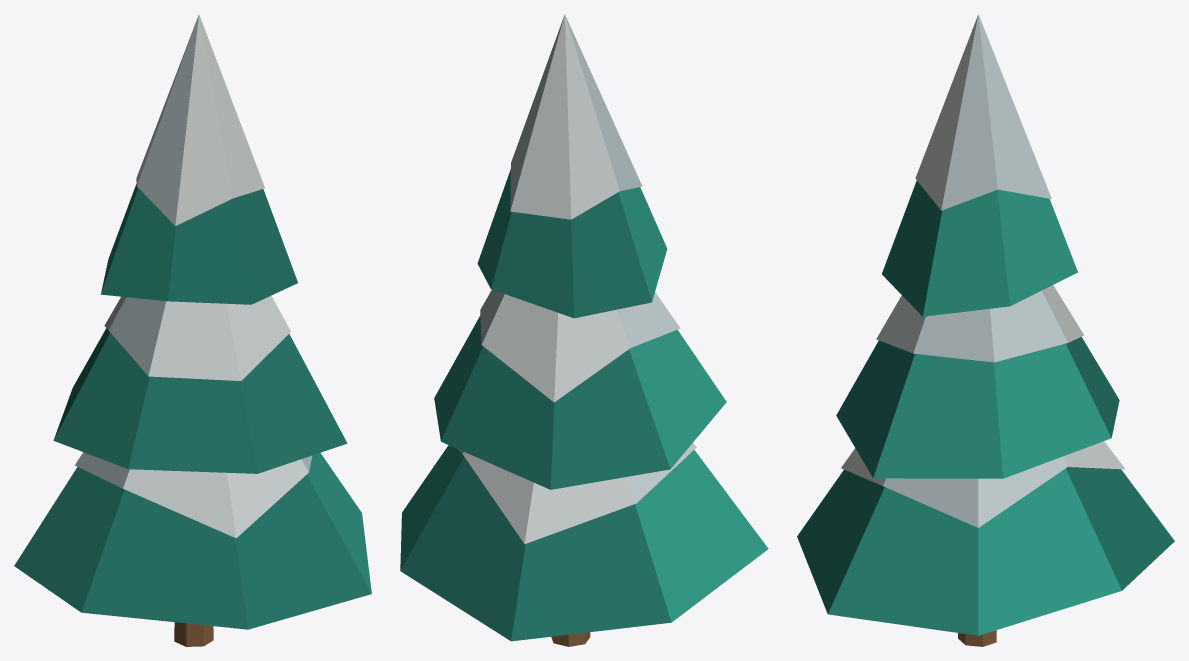
The model's file is fir-a.glb.
3 renders of one model, left to right at view 1: azimuth 30°, elevation 25°; view 2: azimuth 150°, elevation 25°; view 3: azimuth 270°, elevation 25°, orthographic.
Parts seen in each view (by area): view 1: foliage, trunk; view 2: foliage; view 3: foliage.
Boxes of the visible parts, box(x1,y1,x2,y2) form: foliage: box(14, 14, 371, 629); trunk: box(174, 622, 213, 646); foliage: box(400, 14, 768, 641); foliage: box(797, 14, 1174, 635).
Size of the model in its own units: 2.4 by 4.41 by 2.41.
